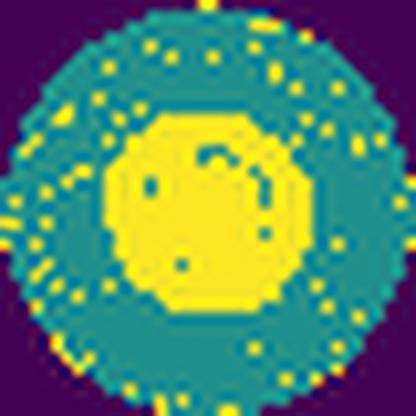Center: (101, 109, 314, 316)
